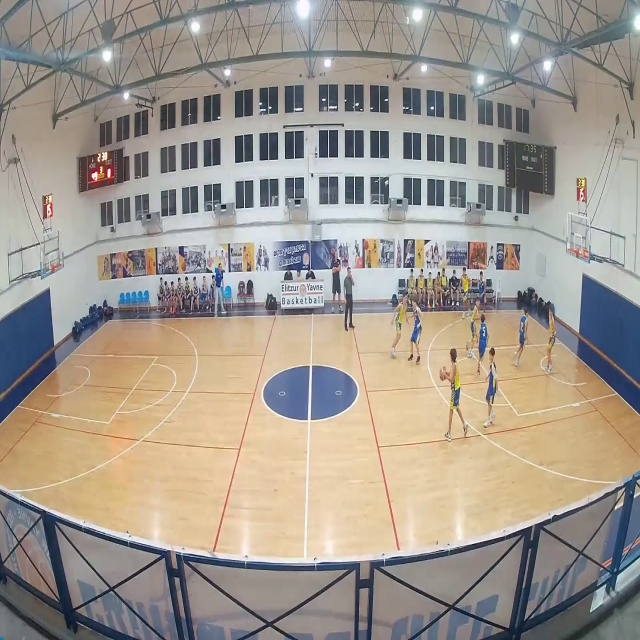Basketball: (439, 370, 448, 381)
